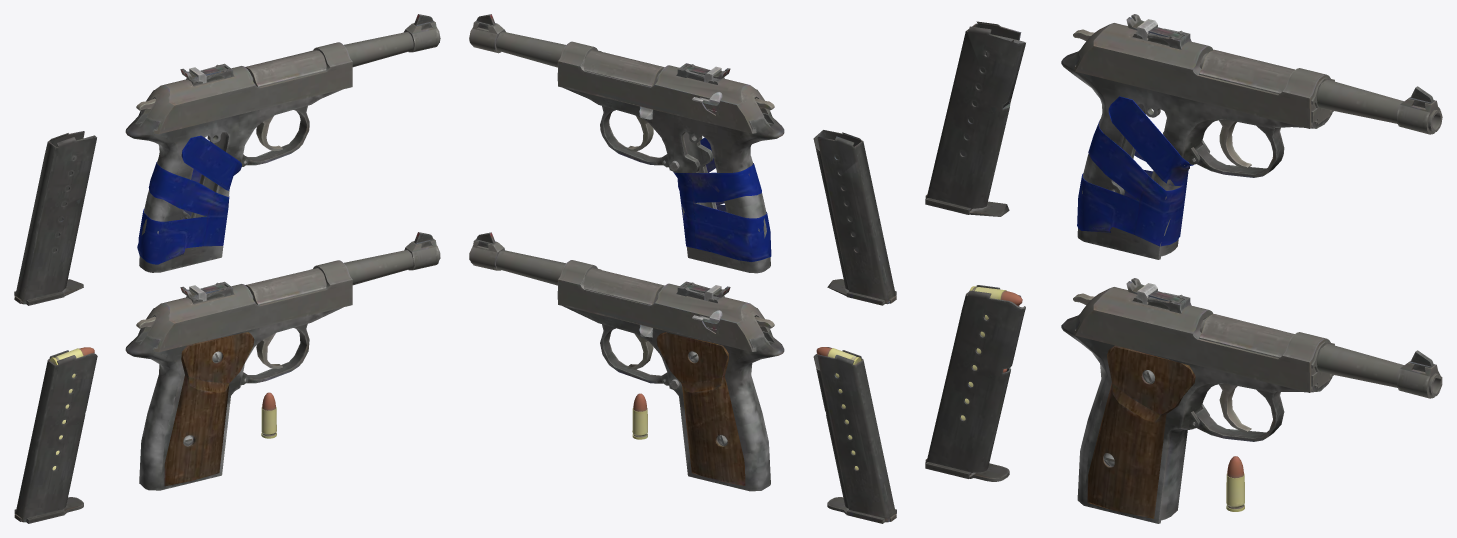
Rendered from service_pistol.glb.
3 renders of one model, left to right at view 1: azimuth 30°, elevation 25°; view 2: azimuth 150°, elevation 25°; view 3: azimuth 330°, elevation 25°, orthographic. The views are drawn at different scales.
Visible parts, largest first — view 1: service_pistol_pistol_b, service_pistol_pistol_a, service_pistol_magazine_loaded, service_pistol_magazine_empty, service_pistol_slide_a, service_pistol_slide_b, service_pistol_bullet; view 2: service_pistol_pistol_b, service_pistol_pistol_a, service_pistol_magazine_loaded, service_pistol_magazine_empty, service_pistol_slide_b, service_pistol_slide_a, service_pistol_bullet; view 3: service_pistol_pistol_a, service_pistol_pistol_b, service_pistol_magazine_loaded, service_pistol_magazine_empty, service_pistol_slide_a, service_pistol_slide_b, service_pistol_bullet, service_pistol_trigger_b, service_pistol_trigger_a.
Part boxes in pixels (<box>): service_pistol_pistol_b: <box>125,14,440,272</box>; service_pistol_pistol_a: <box>125,232,440,490</box>; service_pistol_magazine_loaded: <box>14,347,97,523</box>; service_pistol_magazine_empty: <box>14,131,96,305</box>; service_pistol_slide_a: <box>141,260,352,352</box>; service_pistol_slide_b: <box>141,42,352,134</box>; service_pistol_bullet: <box>261,392,276,438</box>; service_pistol_pistol_b: <box>469,14,784,273</box>; service_pistol_pistol_a: <box>469,232,784,491</box>; service_pistol_magazine_loaded: <box>813,347,896,523</box>; service_pistol_magazine_empty: <box>813,130,896,305</box>; service_pistol_slide_b: <box>558,41,772,133</box>; service_pistol_slide_a: <box>558,260,772,351</box>; service_pistol_bullet: <box>632,393,647,439</box>; service_pistol_pistol_a: <box>1061,313,1442,523</box>; service_pistol_pistol_b: <box>1061,49,1442,259</box>; service_pistol_magazine_loaded: <box>925,285,1025,481</box>; service_pistol_magazine_empty: <box>925,21,1025,216</box>; service_pistol_slide_a: <box>1074,278,1334,392</box>; service_pistol_slide_b: <box>1074,14,1334,128</box>; service_pistol_bullet: <box>1226,456,1244,511</box>; service_pistol_trigger_b: <box>1219,119,1251,168</box>; service_pistol_trigger_a: <box>1219,383,1251,432</box>.
Bounding box in the file's own units: 0.3016 × 0.2807 × 0.0318.
1 material, 1 textured.
